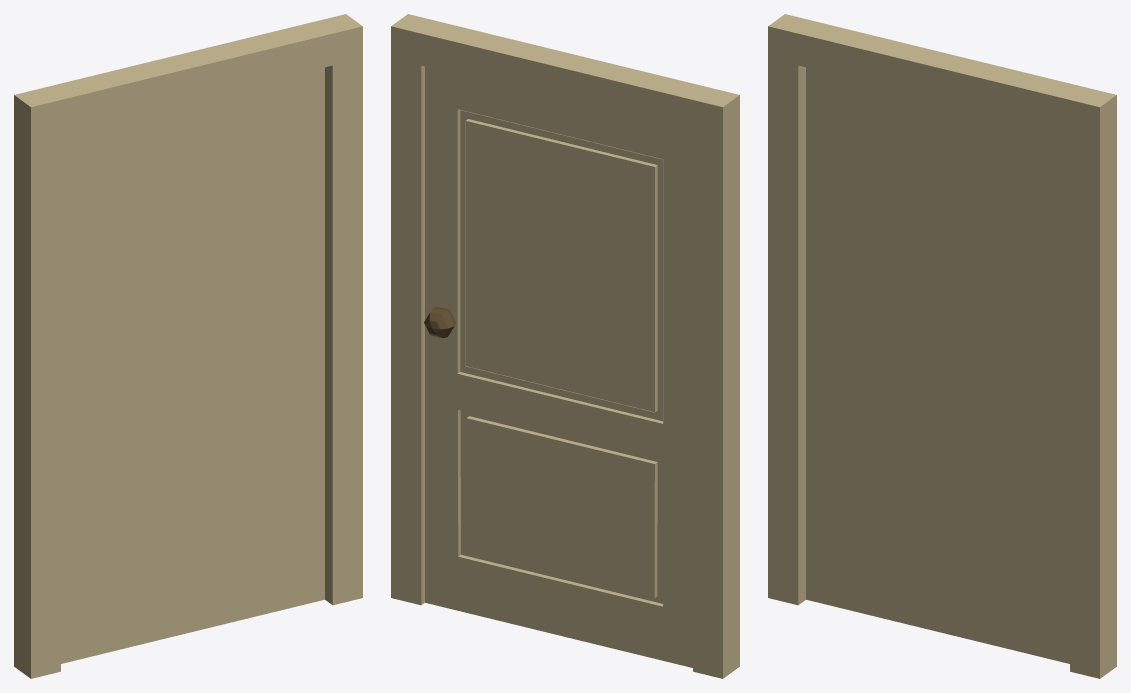
File: CLOSED_DOOR.fbx
3 renders of one model, left to right at view 1: azimuth 30°, elevation 25°; view 2: azimuth 150°, elevation 25°; view 3: azimuth 330°, elevation 25°, orthographic.
Parts seen in each view (by area): view 1: pCube216; view 2: pCube216, pSphere26; view 3: pCube216.
Part boxes in pixels (box(x1,y1,x2,y2)): pCube216: box(14, 14, 362, 678); pCube216: box(391, 14, 739, 678); pSphere26: box(424, 307, 456, 338); pCube216: box(768, 14, 1116, 678).
Bounding box in the file's own units: 4.28 × 7.04 × 0.558.
